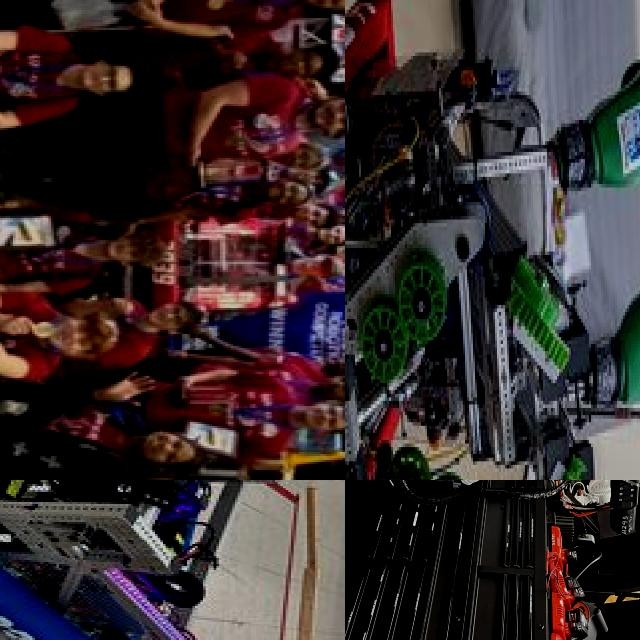FRC-Robots: (345, 0, 640, 480), (0, 480, 333, 640), (345, 480, 640, 630), (138, 196, 308, 346)
